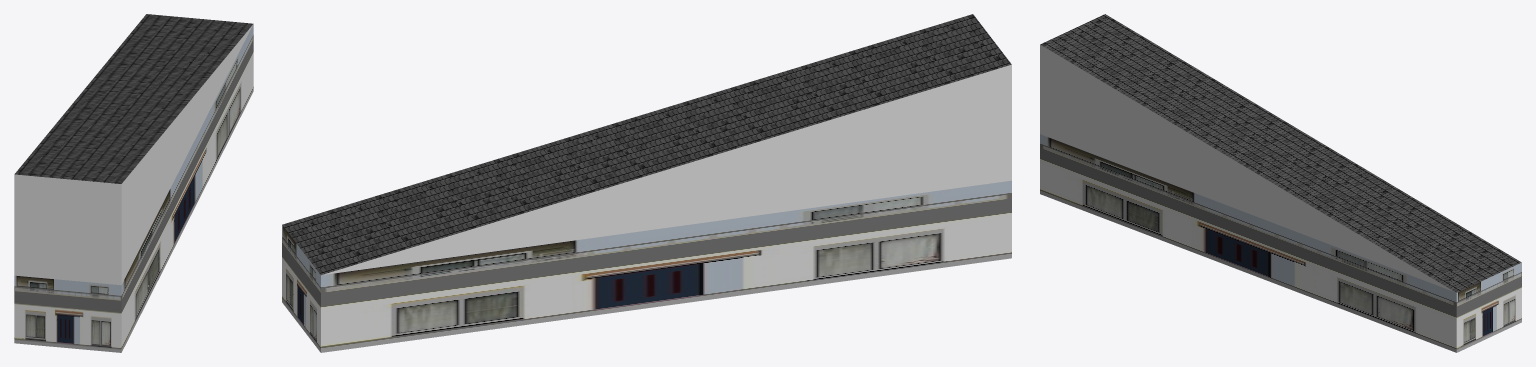
The picture shows the model from 3 angles, left to right: view 1: azimuth 30°, elevation 25°; view 2: azimuth 150°, elevation 25°; view 3: azimuth 270°, elevation 25°; orthographic projection. The views are drawn at different scales.
Visible parts, largest first — view 1: CityEngineMaterial_8_m, CityEngineMaterial_3_m, CityEngineMaterial_7_m; view 2: CityEngineMaterial_7_m, CityEngineMaterial_8_m, CityEngineMaterial_3_m; view 3: CityEngineMaterial_7_m, CityEngineMaterial_8_m, CityEngineMaterial_3_m.
Part boxes in pixels (x1=…): CityEngineMaterial_8_m: x1=15, y1=14, x2=253, y2=183; CityEngineMaterial_3_m: x1=14, y1=25, x2=252, y2=285; CityEngineMaterial_7_m: x1=14, y1=24, x2=253, y2=352; CityEngineMaterial_7_m: x1=282, y1=180, x2=1011, y2=352; CityEngineMaterial_8_m: x1=282, y1=14, x2=1011, y2=274; CityEngineMaterial_3_m: x1=322, y1=64, x2=1011, y2=274; CityEngineMaterial_7_m: x1=1040, y1=134, x2=1521, y2=352; CityEngineMaterial_8_m: x1=1040, y1=14, x2=1521, y2=292; CityEngineMaterial_3_m: x1=1040, y1=44, x2=1455, y2=292.
Bounding box in the file's own units: 45.86 × 16.91 × 49.32.
